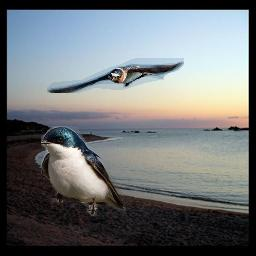Swallow: (41, 126, 126, 216), (47, 58, 184, 93)
